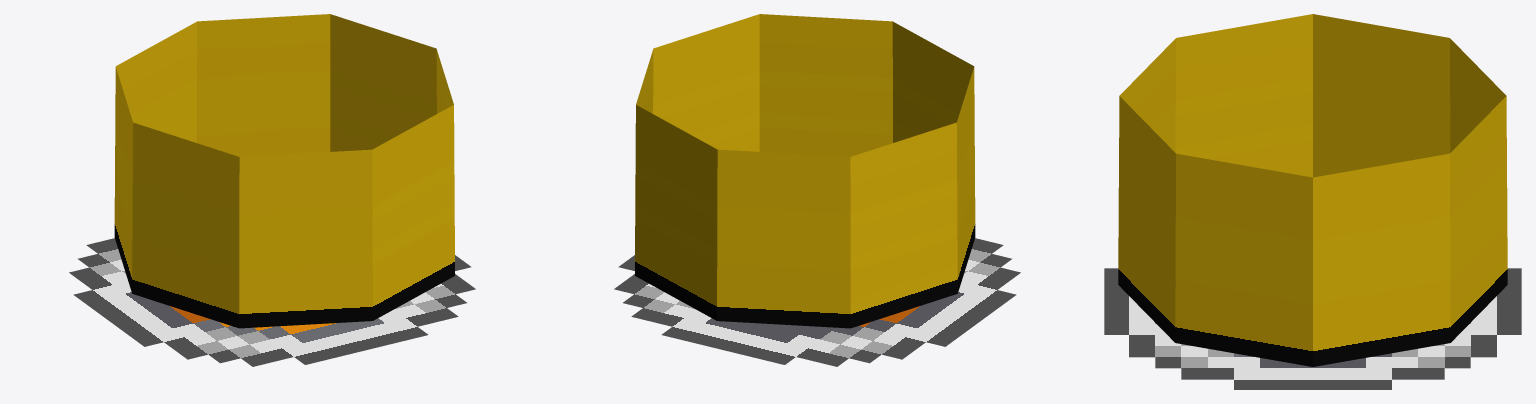
File: Warp Panel 1.obj
3 renders of one model, left to right at view 1: azimuth 30°, elevation 25°; view 2: azimuth 150°, elevation 25°; view 3: azimuth 270°, elevation 25°, orthographic. The views are drawn at different scales.
Parts seen in each view (by area): view 1: polygon1, polygon0; view 2: polygon1, polygon0; view 3: polygon1, polygon0.
Boxes of the visible parts, <box> form: polygon1: <box>114,14,454,328</box>; polygon0: <box>69,238,475,366</box>; polygon1: <box>635,14,975,328</box>; polygon0: <box>614,238,1020,366</box>; polygon1: <box>1118,14,1507,366</box>; polygon0: <box>1104,268,1521,389</box>.
Bounding box in the file's own units: 16.07 × 8.99 × 16.
2 materials, 2 textured.
